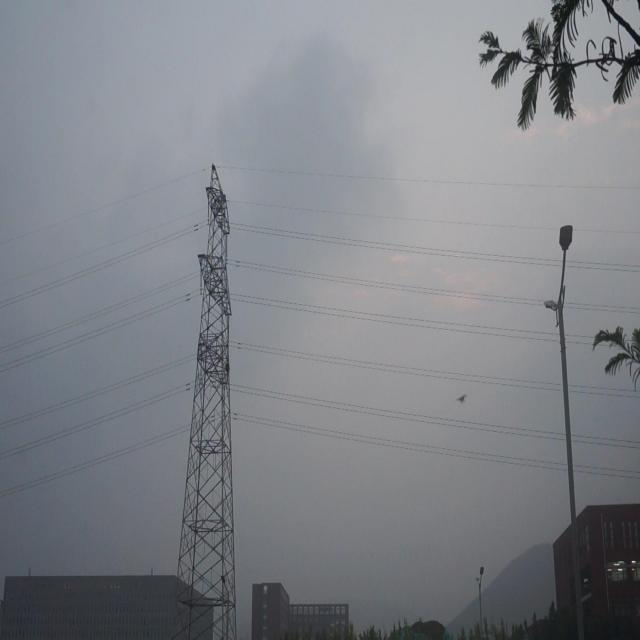UAV: (456, 394, 468, 404)
